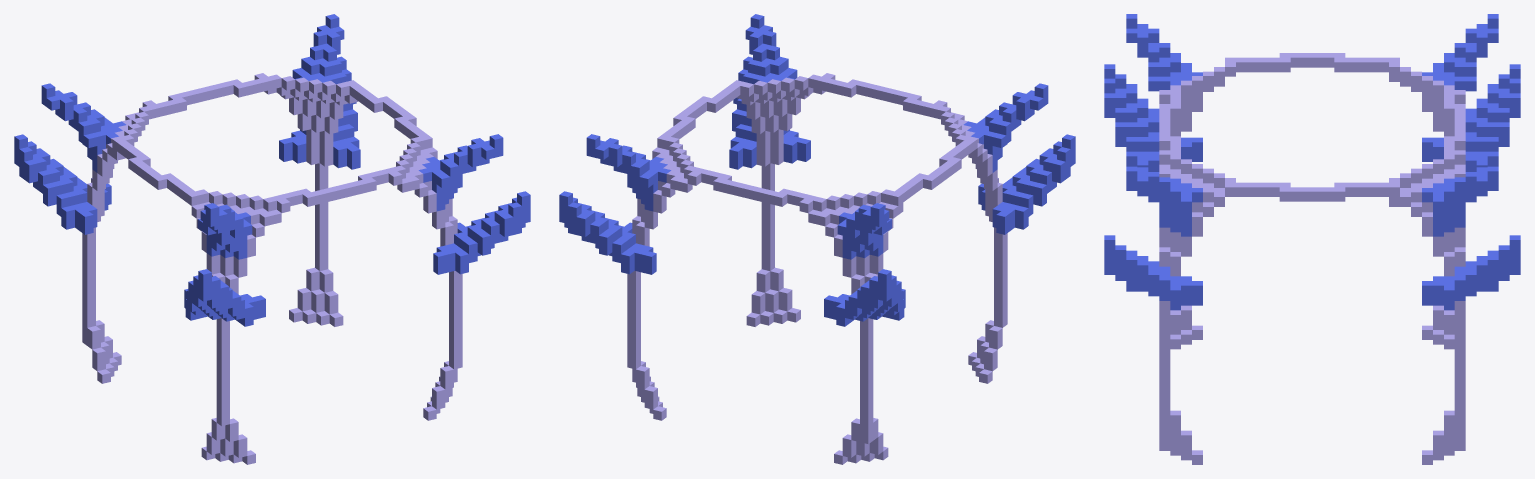
File: MuñecoNieve-0.obj
The picture shows the model from 3 angles, left to right: view 1: azimuth 30°, elevation 25°; view 2: azimuth 150°, elevation 25°; view 3: azimuth 270°, elevation 25°; orthographic projection. The views are drawn at different scales.
Bounding box in the file's own units: 3.8 × 3.1 × 3.8.
1 material, 1 textured.
